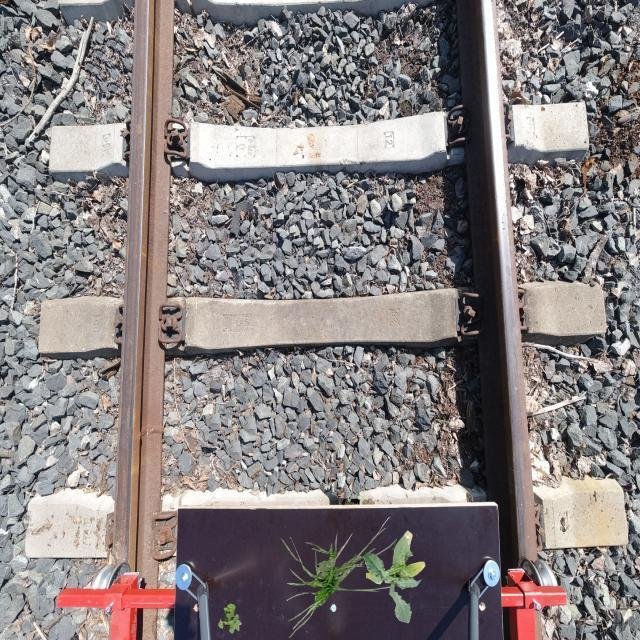Plant: (279, 516, 398, 638), (363, 530, 426, 624), (218, 603, 242, 634)
